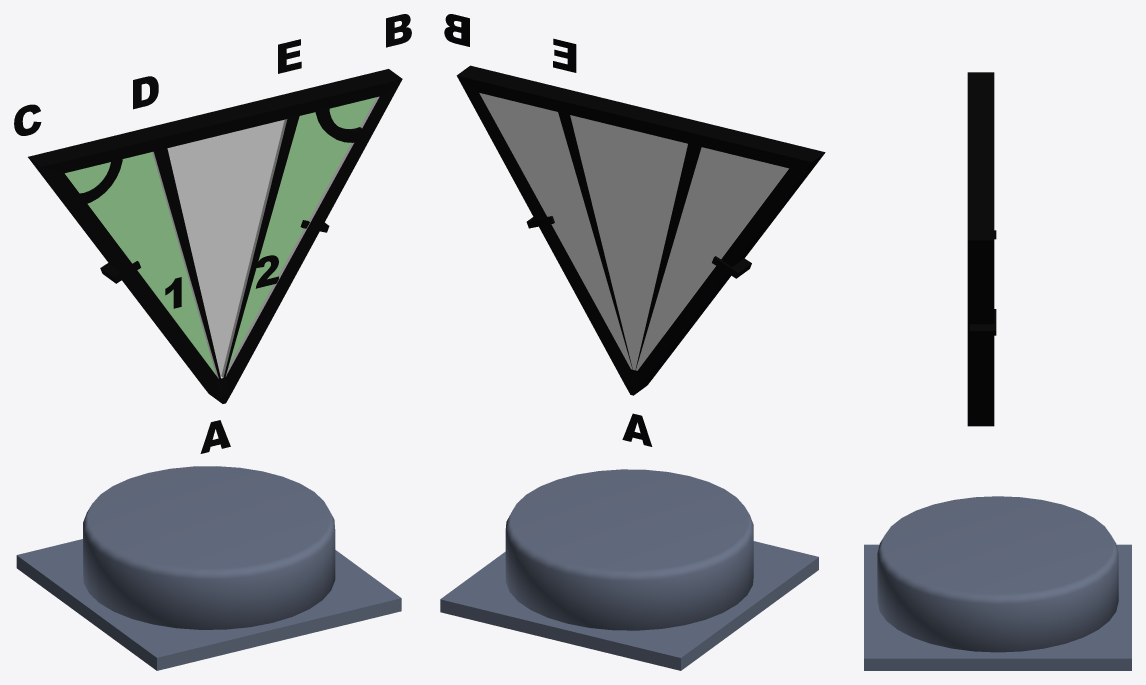
The picture shows the model from 3 angles, left to right: view 1: azimuth 30°, elevation 25°; view 2: azimuth 150°, elevation 25°; view 3: azimuth 270°, elevation 25°; orthographic projection. The views are drawn at different scales.
Parts seen in each view (by area): view 1: Cube.001, Cube, Circle.001, Text.004, Circle, Text.001; view 2: Cube.001, Cube, Text.004; view 3: Cube, Cube.001.
Part boxes in pixels (x1,y1,x2,y2): Cube.001: (28, 69, 402, 403); Cube: (16, 466, 401, 670); Circle.001: (315, 106, 368, 142); Text.004: (386, 14, 411, 47); Circle: (80, 159, 122, 203); Text.001: (133, 76, 158, 109); Cube.001: (456, 65, 825, 395); Cube: (440, 469, 818, 670); Text.004: (444, 14, 469, 46); Cube: (864, 496, 1131, 670); Cube.001: (967, 72, 994, 426).
Bounding box in the file's own units: 14.86 × 19.13 × 9.09.
